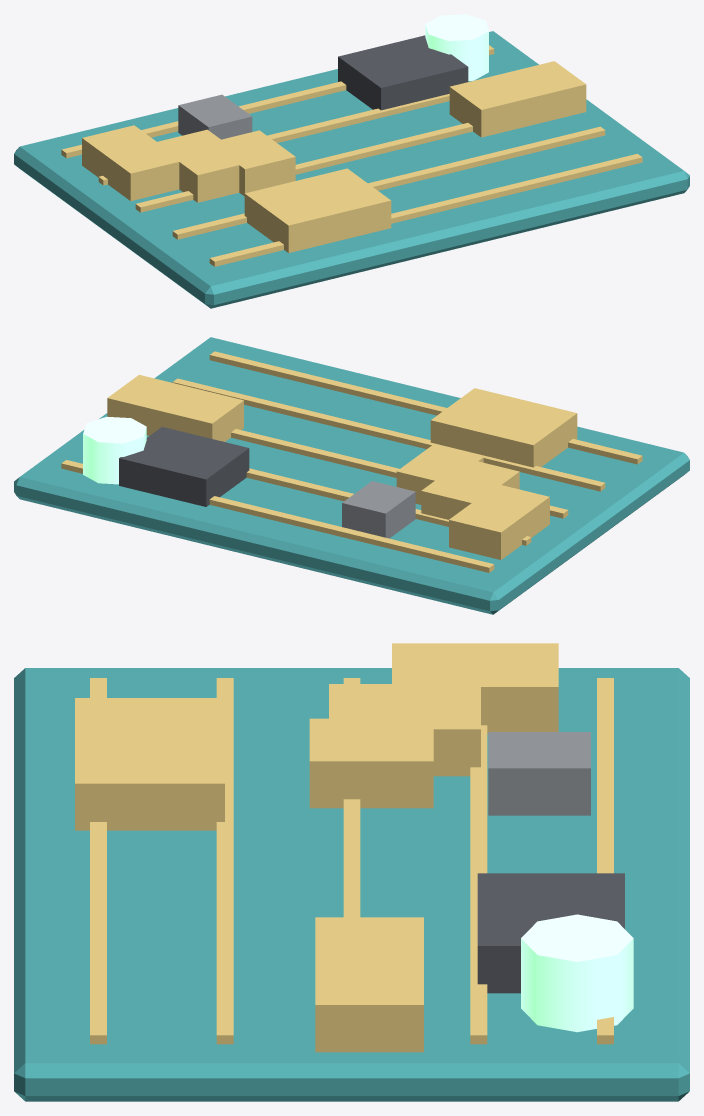
The model's file is item_circuit.glb.
3 views of the same model, one above another, from view 1: azimuth 30°, elevation 25°; view 2: azimuth 150°, elevation 25°; view 3: azimuth 270°, elevation 25° (orthographic). The views are drawn at different scales.
Visible parts, largest first — view 1: circuit; view 2: circuit; view 3: circuit.
Part boxes in pixels (box(x1,y1,x2,y2)): circuit: box(14, 14, 689, 308); circuit: box(14, 337, 689, 614); circuit: box(14, 643, 689, 1101).
Bounding box in the file's own units: 0.34 × 0.0425 × 0.24.
